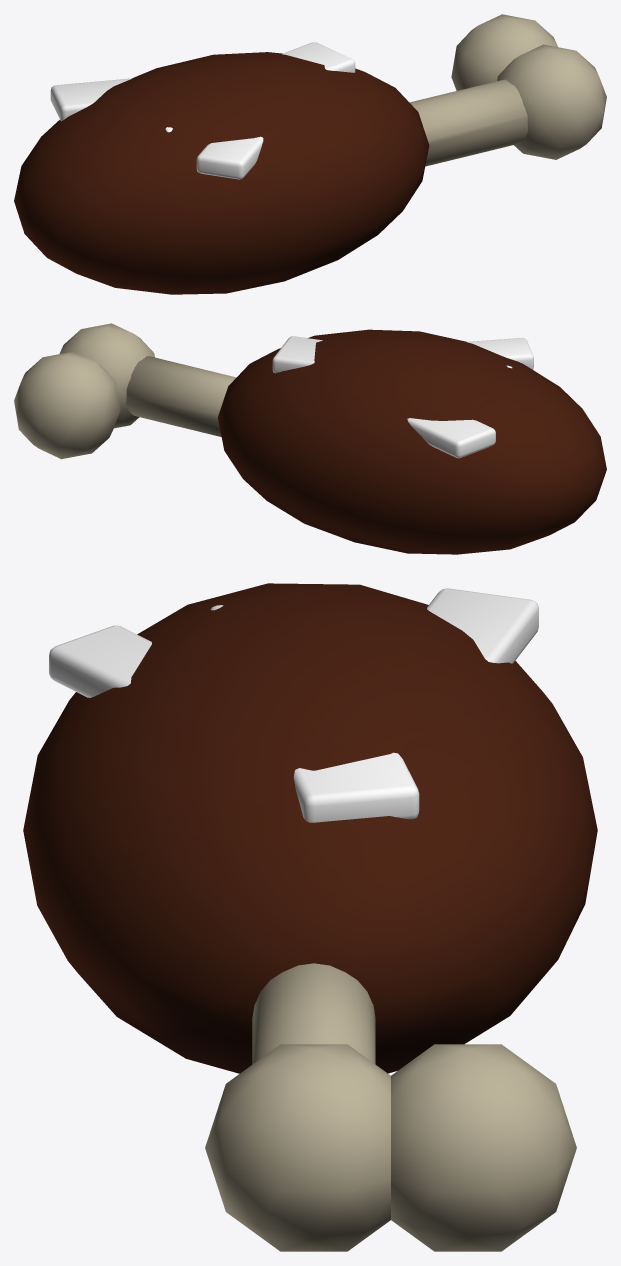
Rendered from cooked-meat.obj.
The picture shows the model from 3 angles, top to bottom: view 1: azimuth 30°, elevation 25°; view 2: azimuth 150°, elevation 25°; view 3: azimuth 270°, elevation 25°; orthographic projection. The views are drawn at different scales.
Parts seen in each view (by area): view 1: cooked-meat; view 2: cooked-meat; view 3: cooked-meat.
Boxes of the visible parts, bbox=[...] form: cooked-meat: bbox=[14, 14, 606, 294]; cooked-meat: bbox=[14, 323, 606, 554]; cooked-meat: bbox=[23, 583, 597, 1251].
Bounding box in the file's own units: 0.5188 × 0.1709 × 0.2425.
